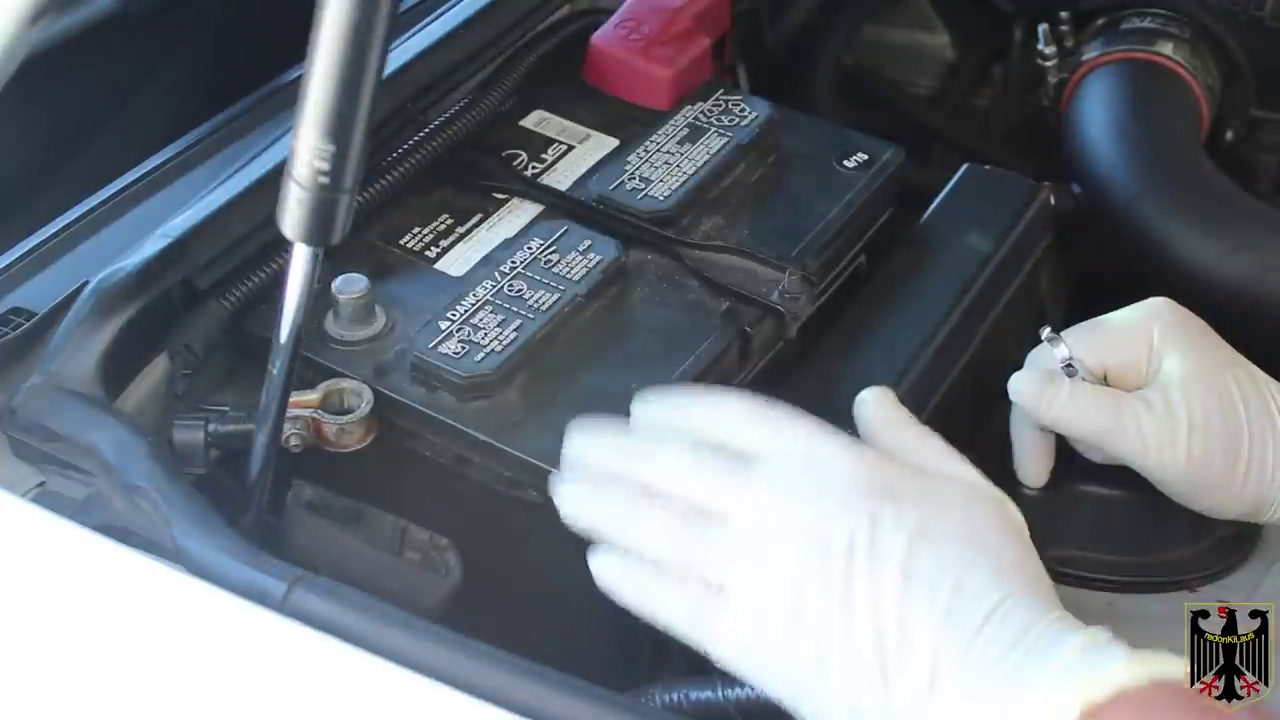battery: (242, 25, 908, 491)
neg_disconnected: (276, 225, 417, 476)
pos_connected: (549, 3, 750, 122)
